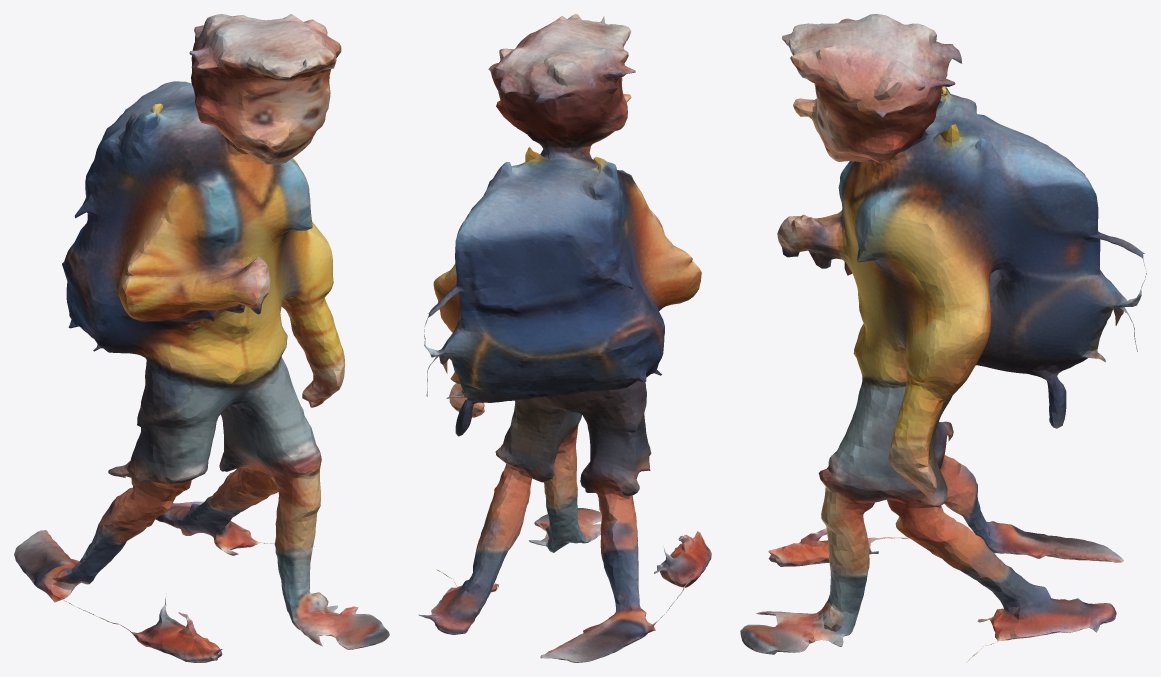
Rendered from boy.glb.
The picture shows the model from 3 angles, left to right: view 1: azimuth 30°, elevation 25°; view 2: azimuth 150°, elevation 25°; view 3: azimuth 270°, elevation 25°; orthographic projection. The views are drawn at different scales.
Bounding box in the file's own units: 0.4923 × 1.06 × 0.6665.
1 material, 1 textured.
